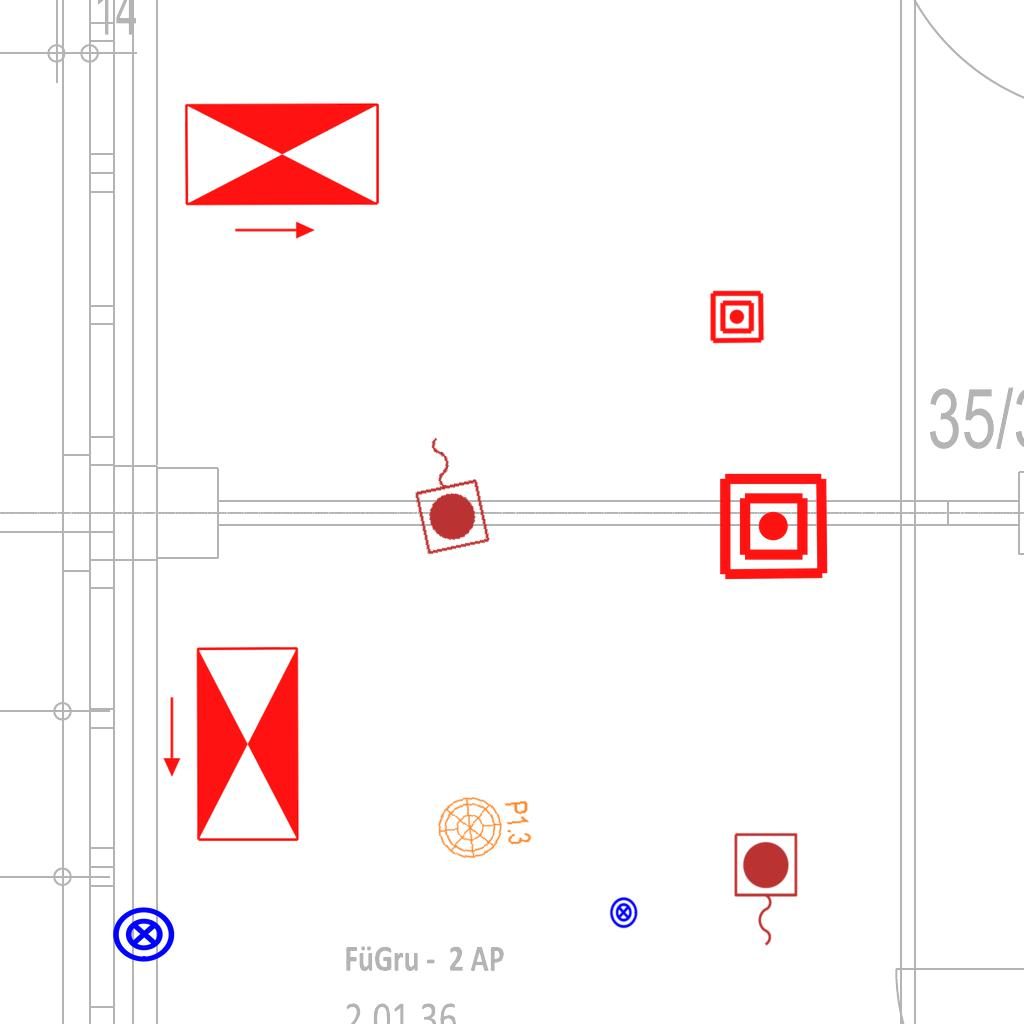Aufbaurundleuchte_LED_Treppenhaus: (433, 788, 543, 869)
Fluchtwegpiktogramm: (178, 97, 386, 244), (158, 640, 305, 848)
NAM-Nichtautomatischer_Melder: (717, 470, 830, 583), (709, 289, 765, 345)
Taster_beleuchtet: (111, 901, 177, 967), (607, 896, 640, 929)
Zugtaster: (400, 424, 496, 560), (729, 829, 801, 951)
